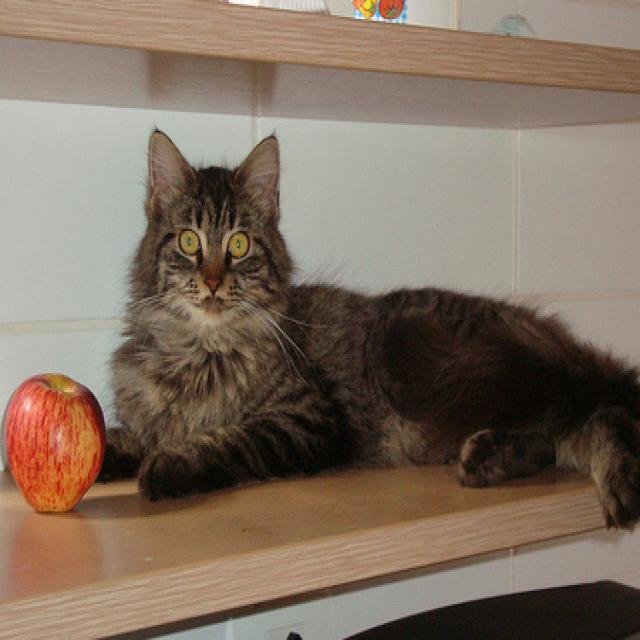Maine Coon: (88, 123, 640, 532)
